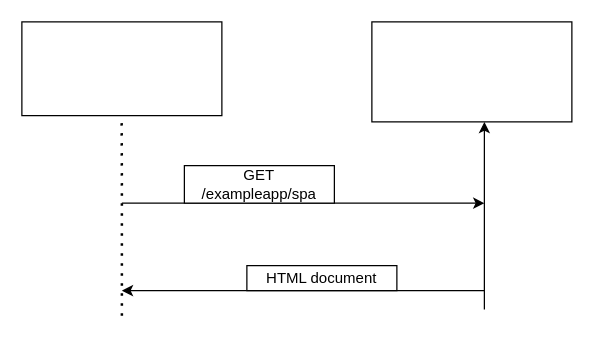
The diagram is 594 pixels wide and 341 high, and some of its shapes have lost their labels. The shapes that lost their labels are listed below. From the top down, each one's centre as x and y in pixels, then its label:
At (x=121, y=68): "Browser".
At (x=471, y=71): "Server".
